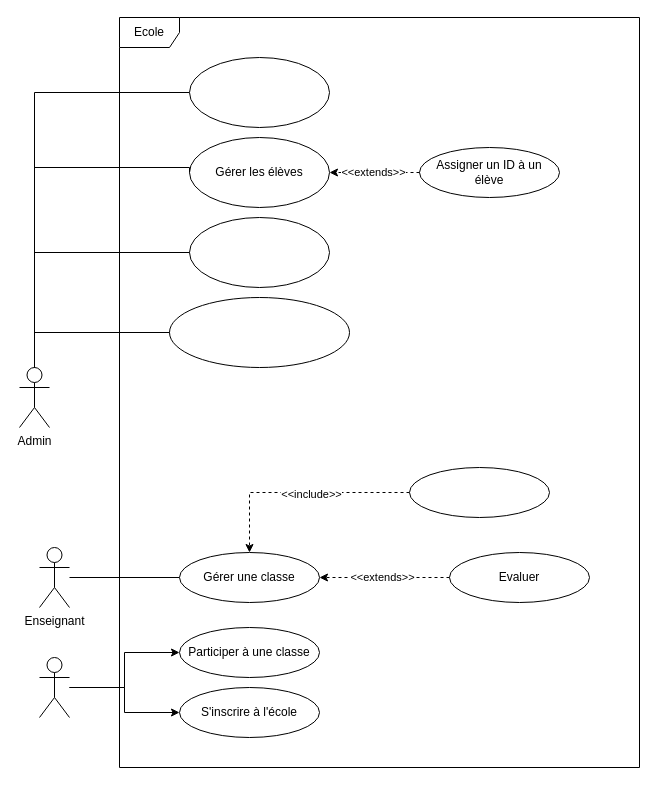
Some shapes in this 657 by 785 pixel diagram are drawn without their labels. Here are the shapes that lost their labels. From the top down, the centre of each, then its label:
the point at 259,92: Gérer les enseignants
the point at 259,252: Exploiter les adresses
the point at 259,332: Planifier les cours
the point at 479,492: Enseigner
the point at 54,687: Eleve
